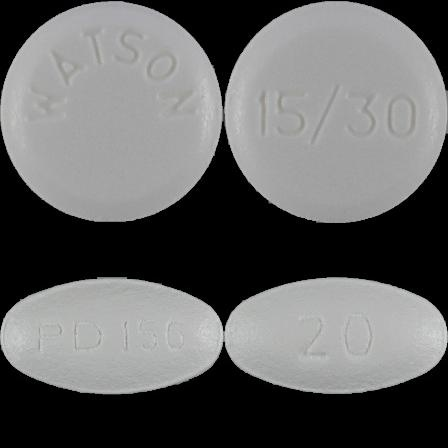42254-260: (0, 0, 224, 224)
